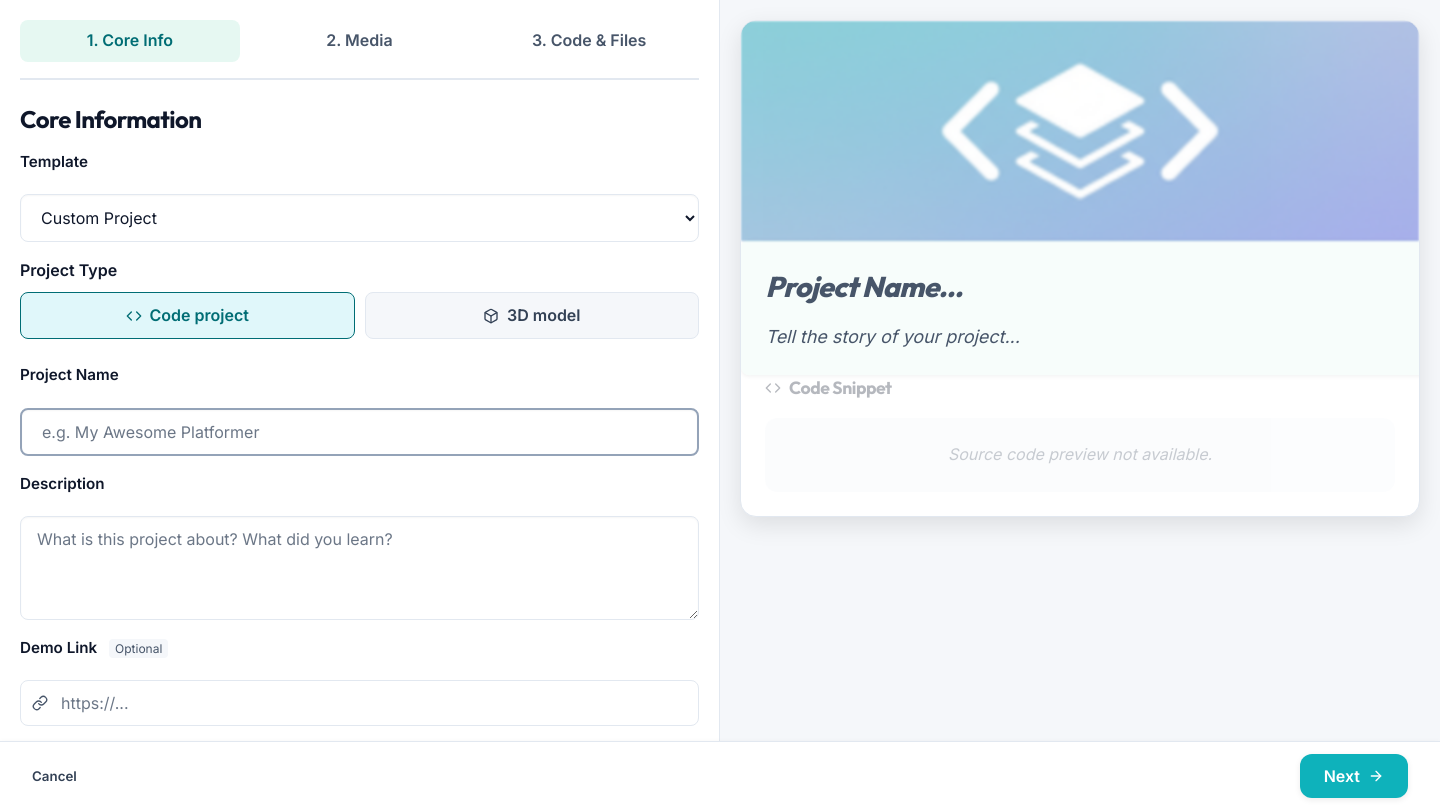
Test: ManageProject › navigates through tabs
Check: the text box with placeholder "What is this project about? What did you learn?" is shown, box x1=20 y1=516 x2=699 y2=620
Click the button "Next" at (1354, 776), box x1=1300 y1=754 x2=1408 y2=798
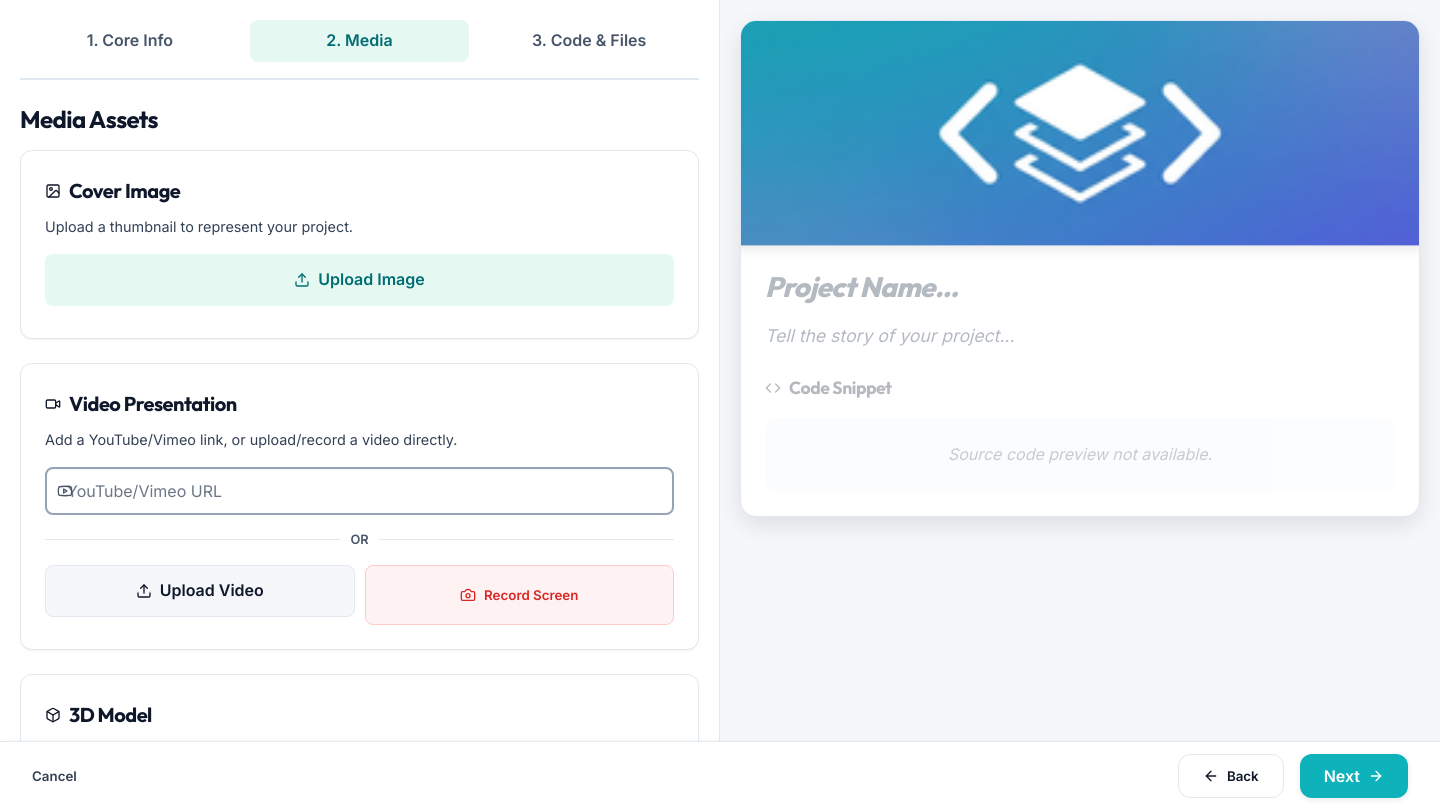
Check: the heading "Media Assets" is shown, box x1=20 y1=104 x2=158 y2=134
Check: the field with placeholder "YouTube/Vimeo URL" is shown, box x1=45 y1=467 x2=674 y2=515
Click the button "Next" at (1354, 776), box x1=1300 y1=754 x2=1408 y2=798
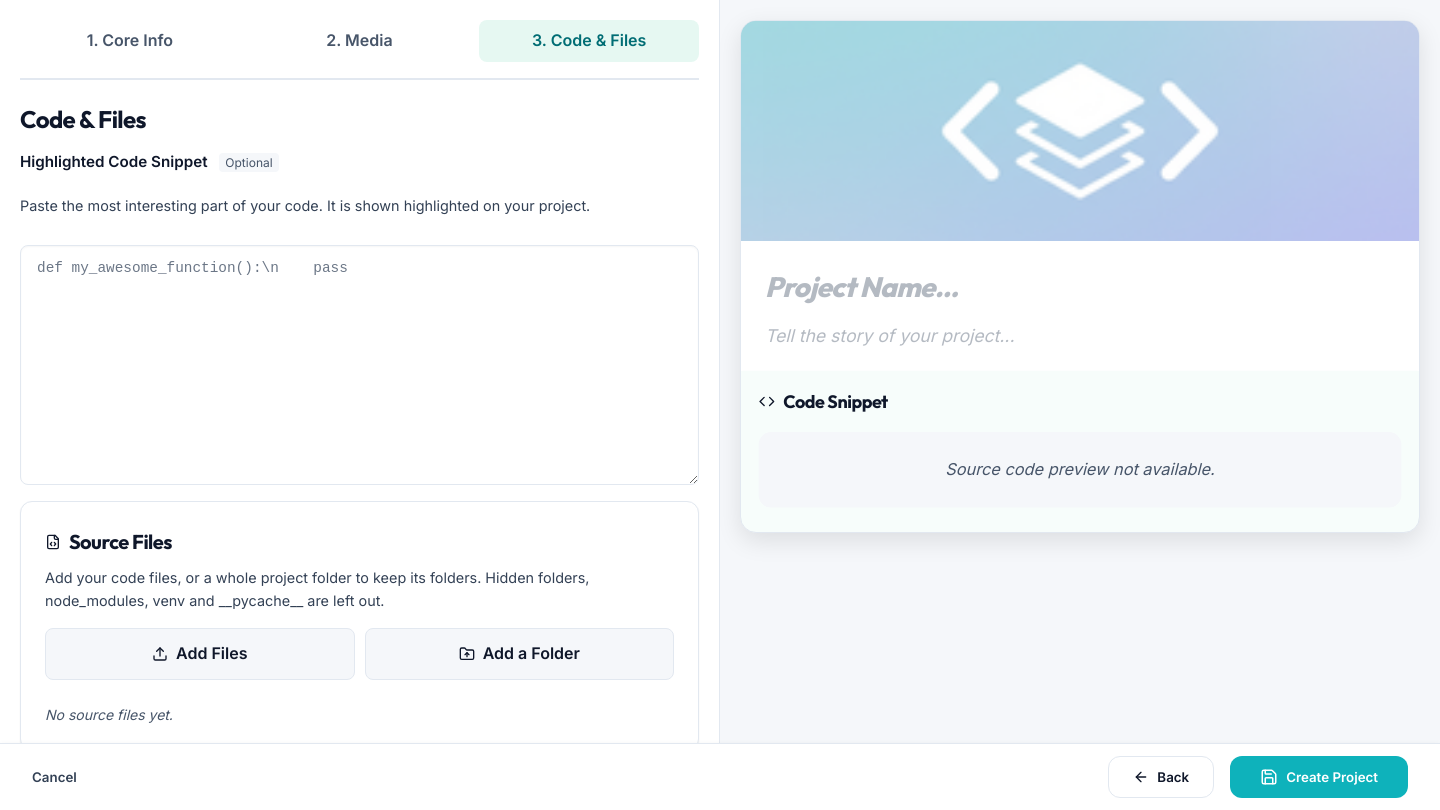
Check: the heading "Code & Files" is shown, box x1=20 y1=104 x2=146 y2=134
Check: the button "Create Project" is shown, box x1=1230 y1=756 x2=1408 y2=798
Click the button "Back" at (1161, 777), box x1=1108 y1=756 x2=1214 y2=798
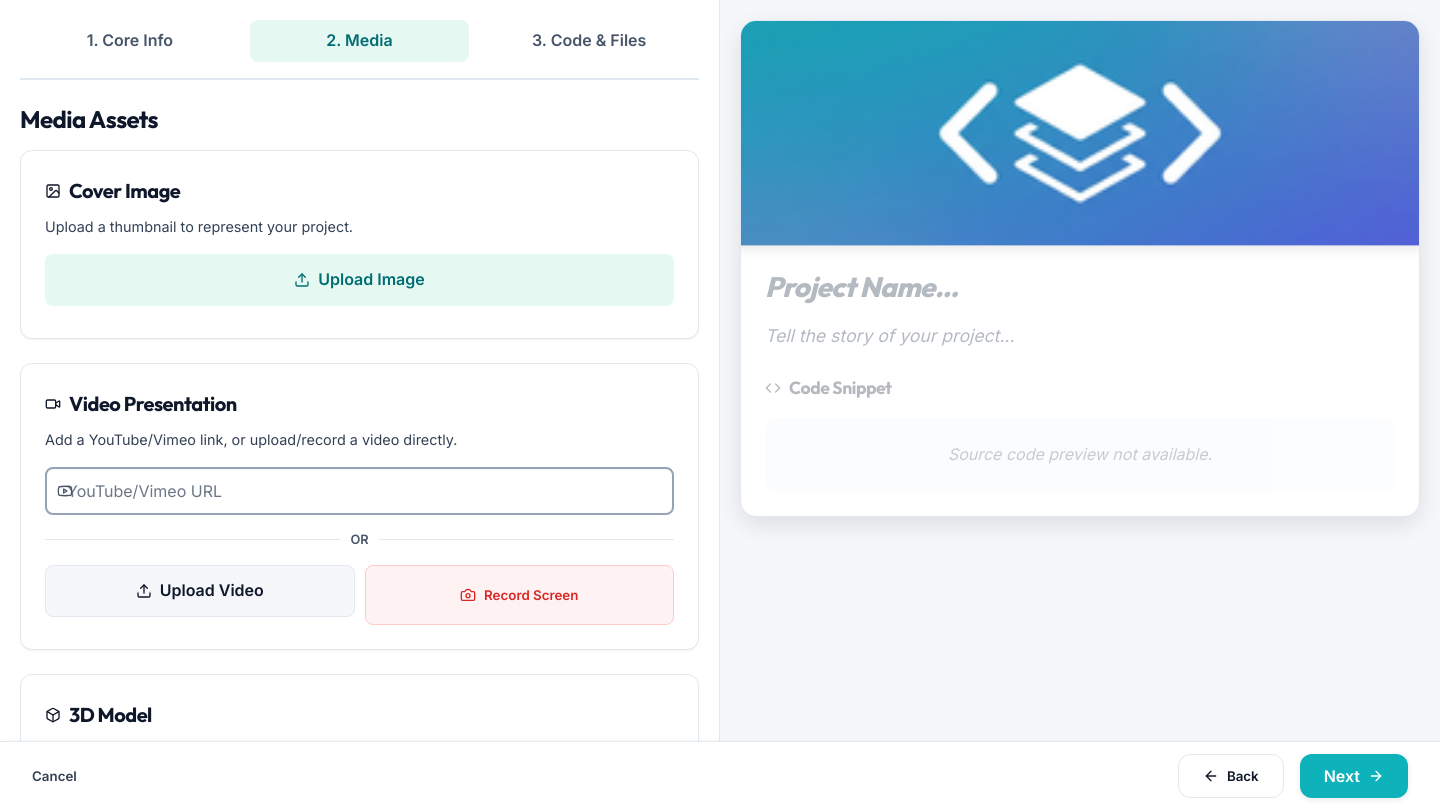
Check: the heading "Media Assets" is shown, box x1=20 y1=104 x2=158 y2=134
